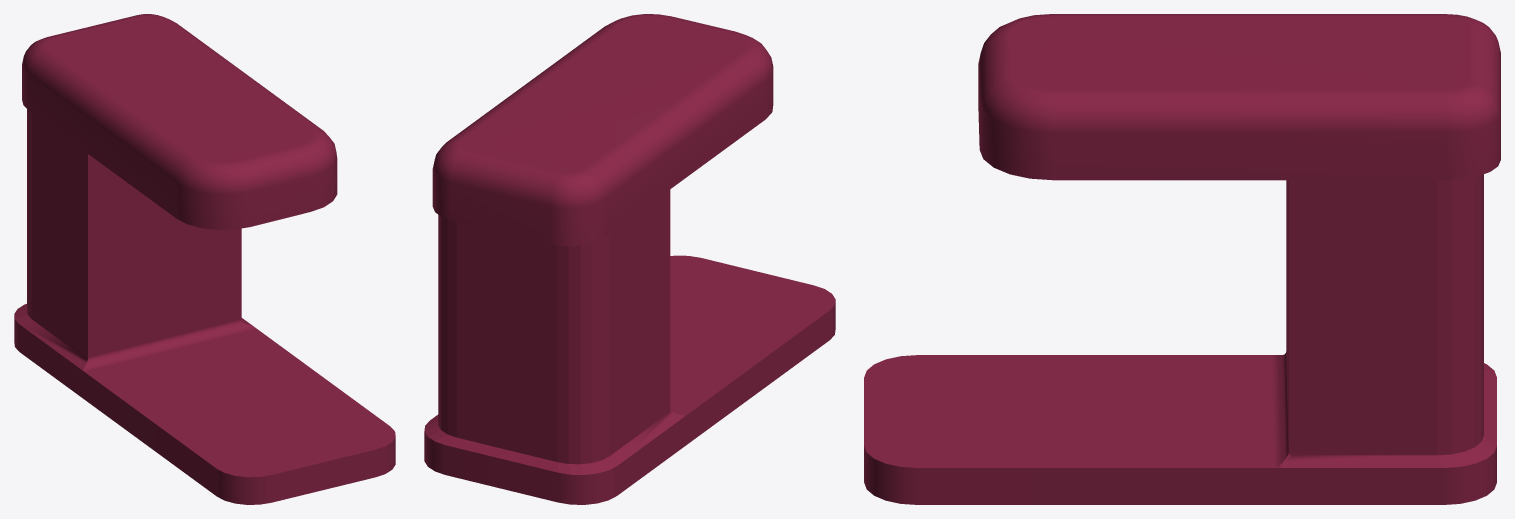
The model's file is Whisking Base.fbx.
3 renders of one model, left to right at view 1: azimuth 30°, elevation 25°; view 2: azimuth 150°, elevation 25°; view 3: azimuth 270°, elevation 25°, orthographic. The views are drawn at different scales.
Parts seen in each view (by area): view 1: Whisk_base; view 2: Whisk_base; view 3: Whisk_base.
Part boxes in pixels (<box>): Whisk_base: <box>14,14,395,504</box>; Whisk_base: <box>424,14,835,504</box>; Whisk_base: <box>864,14,1500,504</box>.
Bounding box in the file's own units: 3.47 × 5.66 × 8.27.
1 material, 1 textured.
